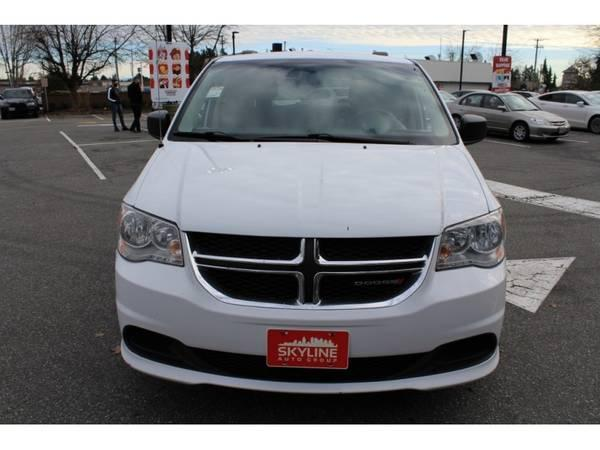Front_Bumper: (114, 252, 507, 391)
Front_Windshield: (165, 56, 459, 148)
Hood: (124, 140, 499, 237)
Left_Headlight: (182, 229, 440, 311), (429, 207, 505, 273)
Left_Mirror: (459, 114, 488, 148)
Right_Headlight: (115, 199, 189, 269)
Right_Mirror: (144, 109, 169, 141)
